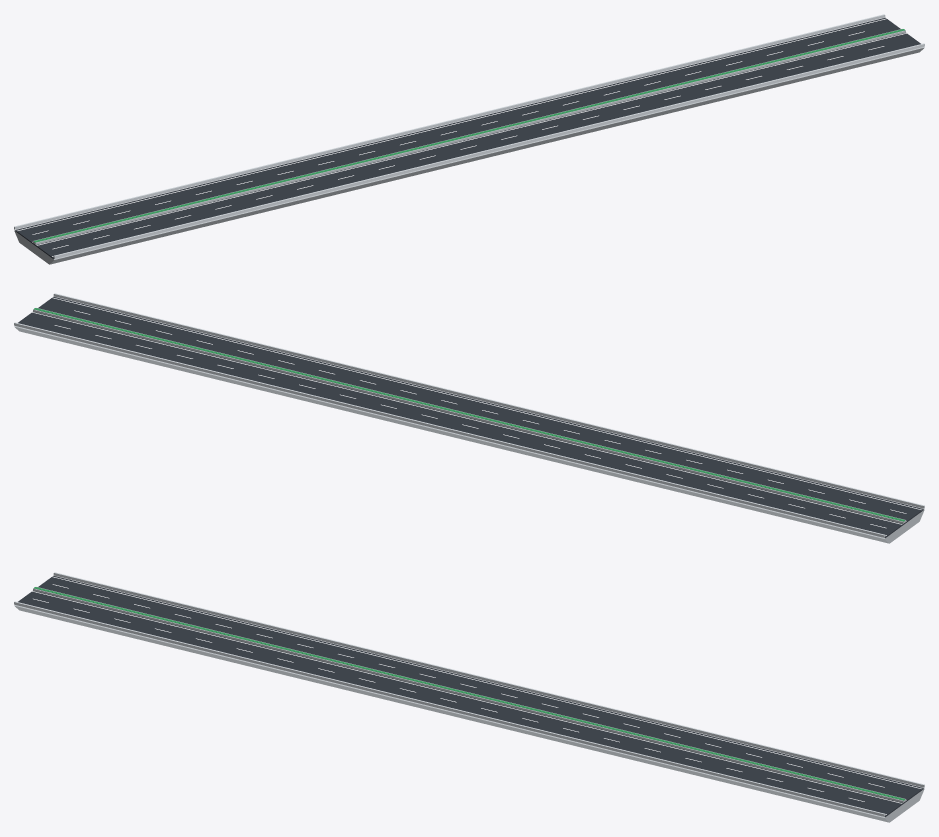
File: bim-bridge-s4.glb
The picture shows the model from 3 angles, top to bottom: view 1: azimuth 30°, elevation 25°; view 2: azimuth 150°, elevation 25°; view 3: azimuth 330°, elevation 25°; orthographic projection.
Parts seen in each view (by area): view 1: BridgeAsphalt, BoxGirder, MedianCurb, RailL, RailR, MedianGreen, SolidLine_3, SolidLine_1, DashedLines; view 2: BridgeAsphalt, BoxGirder, MedianCurb, RailL, RailR, MedianGreen, SolidLine_0, SolidLine_2, DashedLines; view 3: BridgeAsphalt, BoxGirder, MedianCurb, RailL, RailR, MedianGreen, SolidLine_3, SolidLine_1, DashedLines.
Part boxes in pixels (left/top/right/bottom): BridgeAsphalt: left=15, top=17, right=920, bottom=258; BoxGirder: left=14, top=47, right=924, bottom=264; MedianCurb: left=33, top=29, right=905, bottom=244; RailL: left=14, top=14, right=885, bottom=229; RailR: left=53, top=43, right=924, bottom=258; MedianGreen: left=33, top=29, right=905, bottom=242; SolidLine_3: left=17, top=18, right=886, bottom=230; SolidLine_1: left=36, top=33, right=906, bottom=245; DashedLines: left=32, top=31, right=884, bottom=249; BridgeAsphalt: left=18, top=296, right=923, bottom=537; BoxGirder: left=14, top=326, right=924, bottom=543; MedianCurb: left=33, top=308, right=905, bottom=523; RailL: left=14, top=322, right=885, bottom=537; RailR: left=53, top=293, right=924, bottom=508; MedianGreen: left=33, top=308, right=905, bottom=521; SolidLine_0: left=52, top=297, right=921, bottom=509; SolidLine_2: left=32, top=312, right=902, bottom=524; DashedLines: left=54, top=310, right=906, bottom=528; BridgeAsphalt: left=18, top=575, right=923, bottom=816; BoxGirder: left=14, top=605, right=924, bottom=822; MedianCurb: left=33, top=587, right=905, bottom=802; RailL: left=53, top=572, right=924, bottom=787; RailR: left=14, top=601, right=885, bottom=816; MedianGreen: left=33, top=587, right=905, bottom=800; SolidLine_3: left=52, top=576, right=921, bottom=788; SolidLine_1: left=32, top=591, right=902, bottom=803; DashedLines: left=33, top=584, right=884, bottom=801.
Size of the model in its own units: 320 by 4.3 by 25.91.
